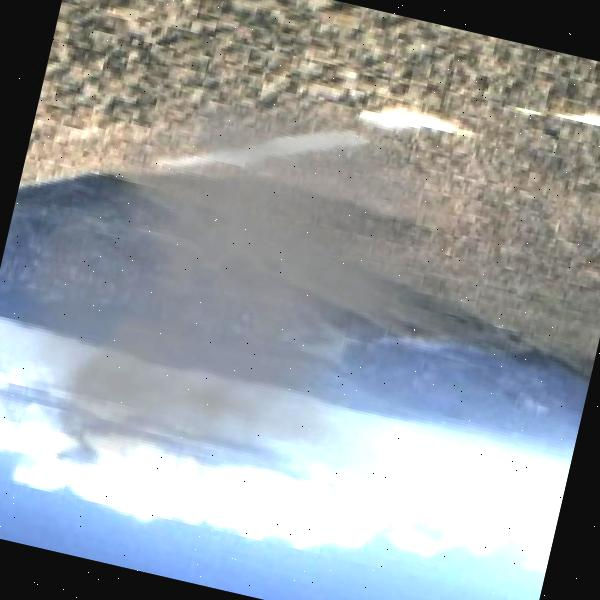smoke: (0, 30, 465, 528)
